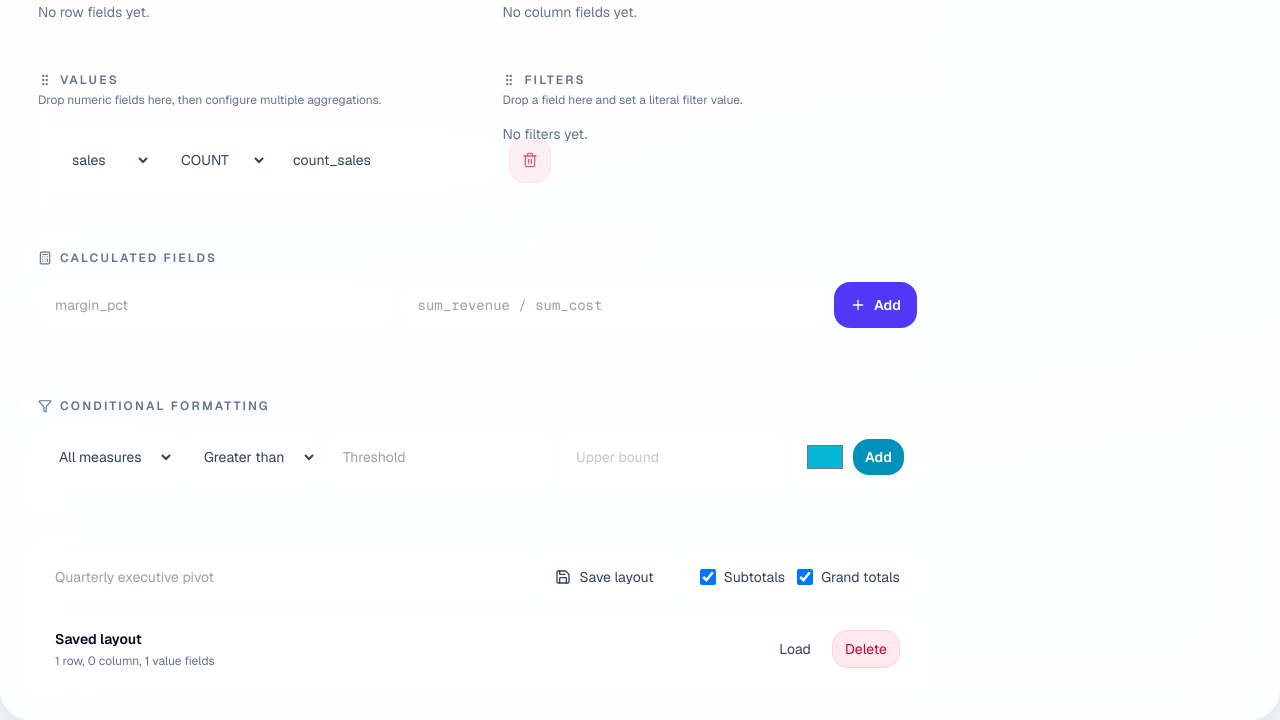
Scenario: PivotConfigurator › runs the pivot and renders grouped results in the table
(page scrolled)
Click the button "Load" at x=795, y=649, box [766,630,824,668]
(page scrolled)
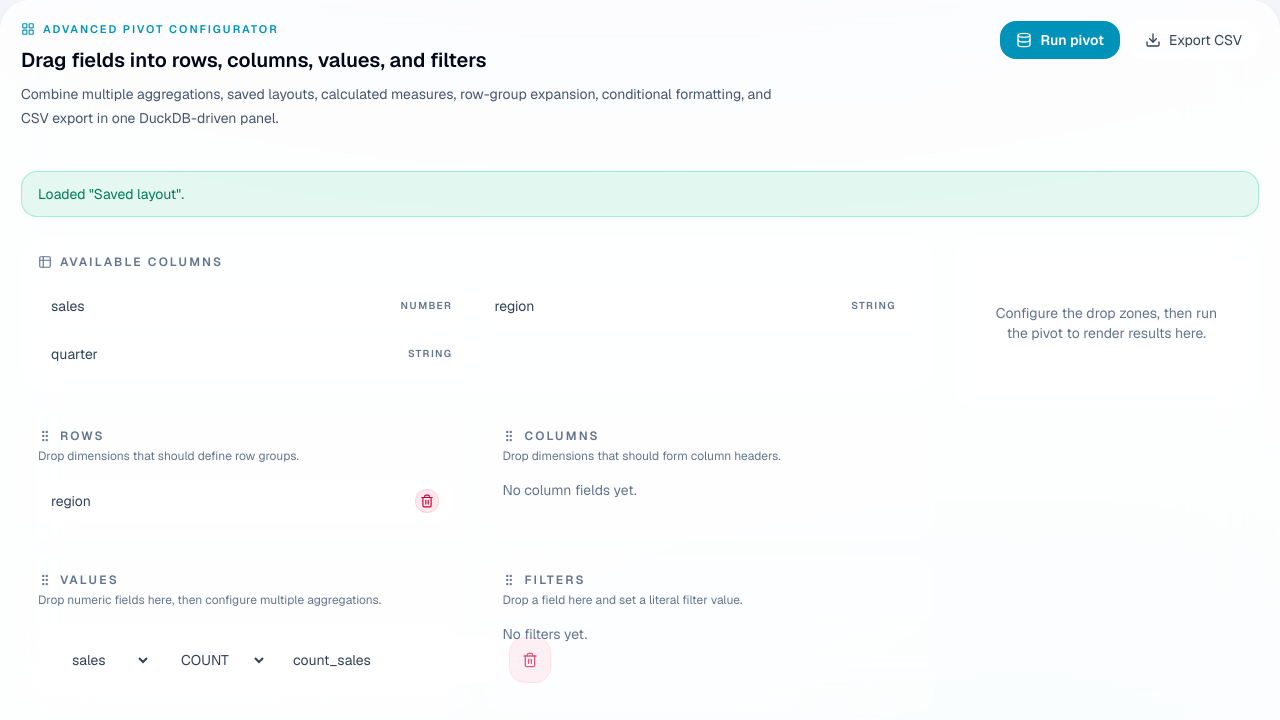
Expected: the text "region" in the row of "No column fields yet." is shown, [51,492,91,510]
Expected: the text "Loaded \"Saved layout\"." is shown, [21,170,1259,216]
Click the button "Run pivot" at x=1060, y=40, box [1000,21,1120,59]
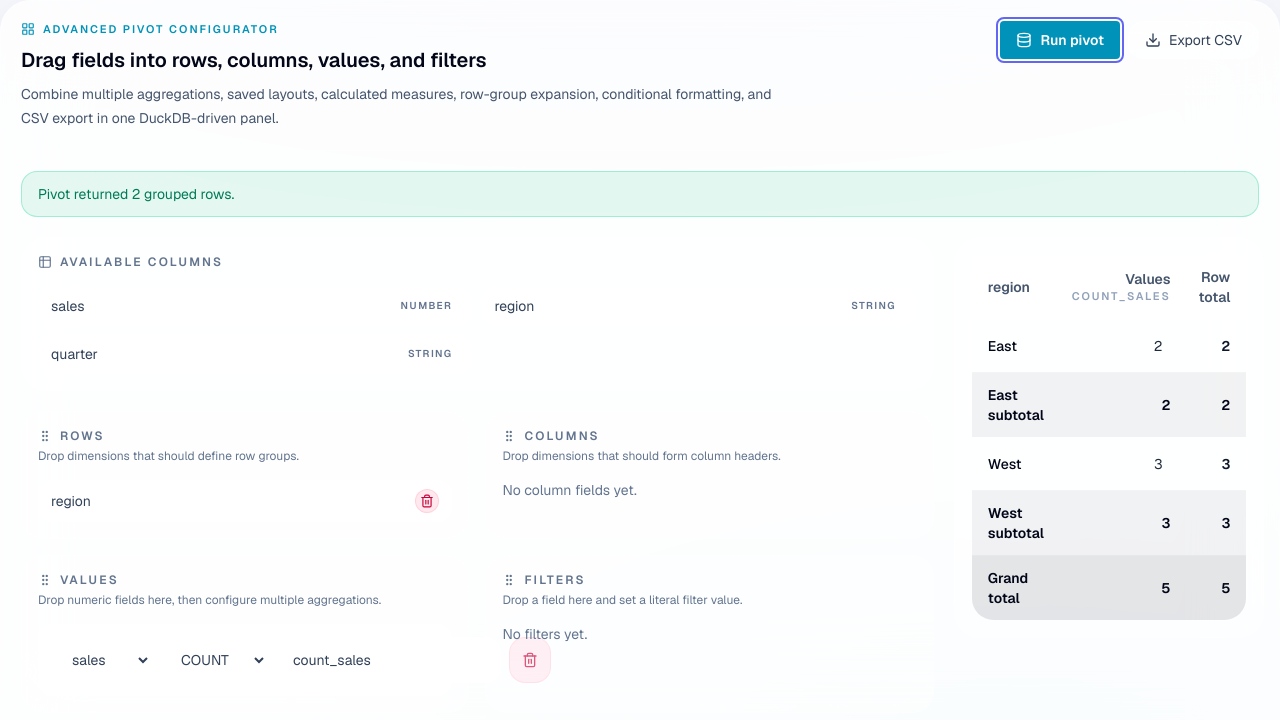
Expected: the text "Pivot returned 2 grouped rows." is shown, [21,170,1259,216]
Expected: the text "East" is shown, [972,319,1060,372]
Expected: the text "West" is shown, [972,437,1060,490]
